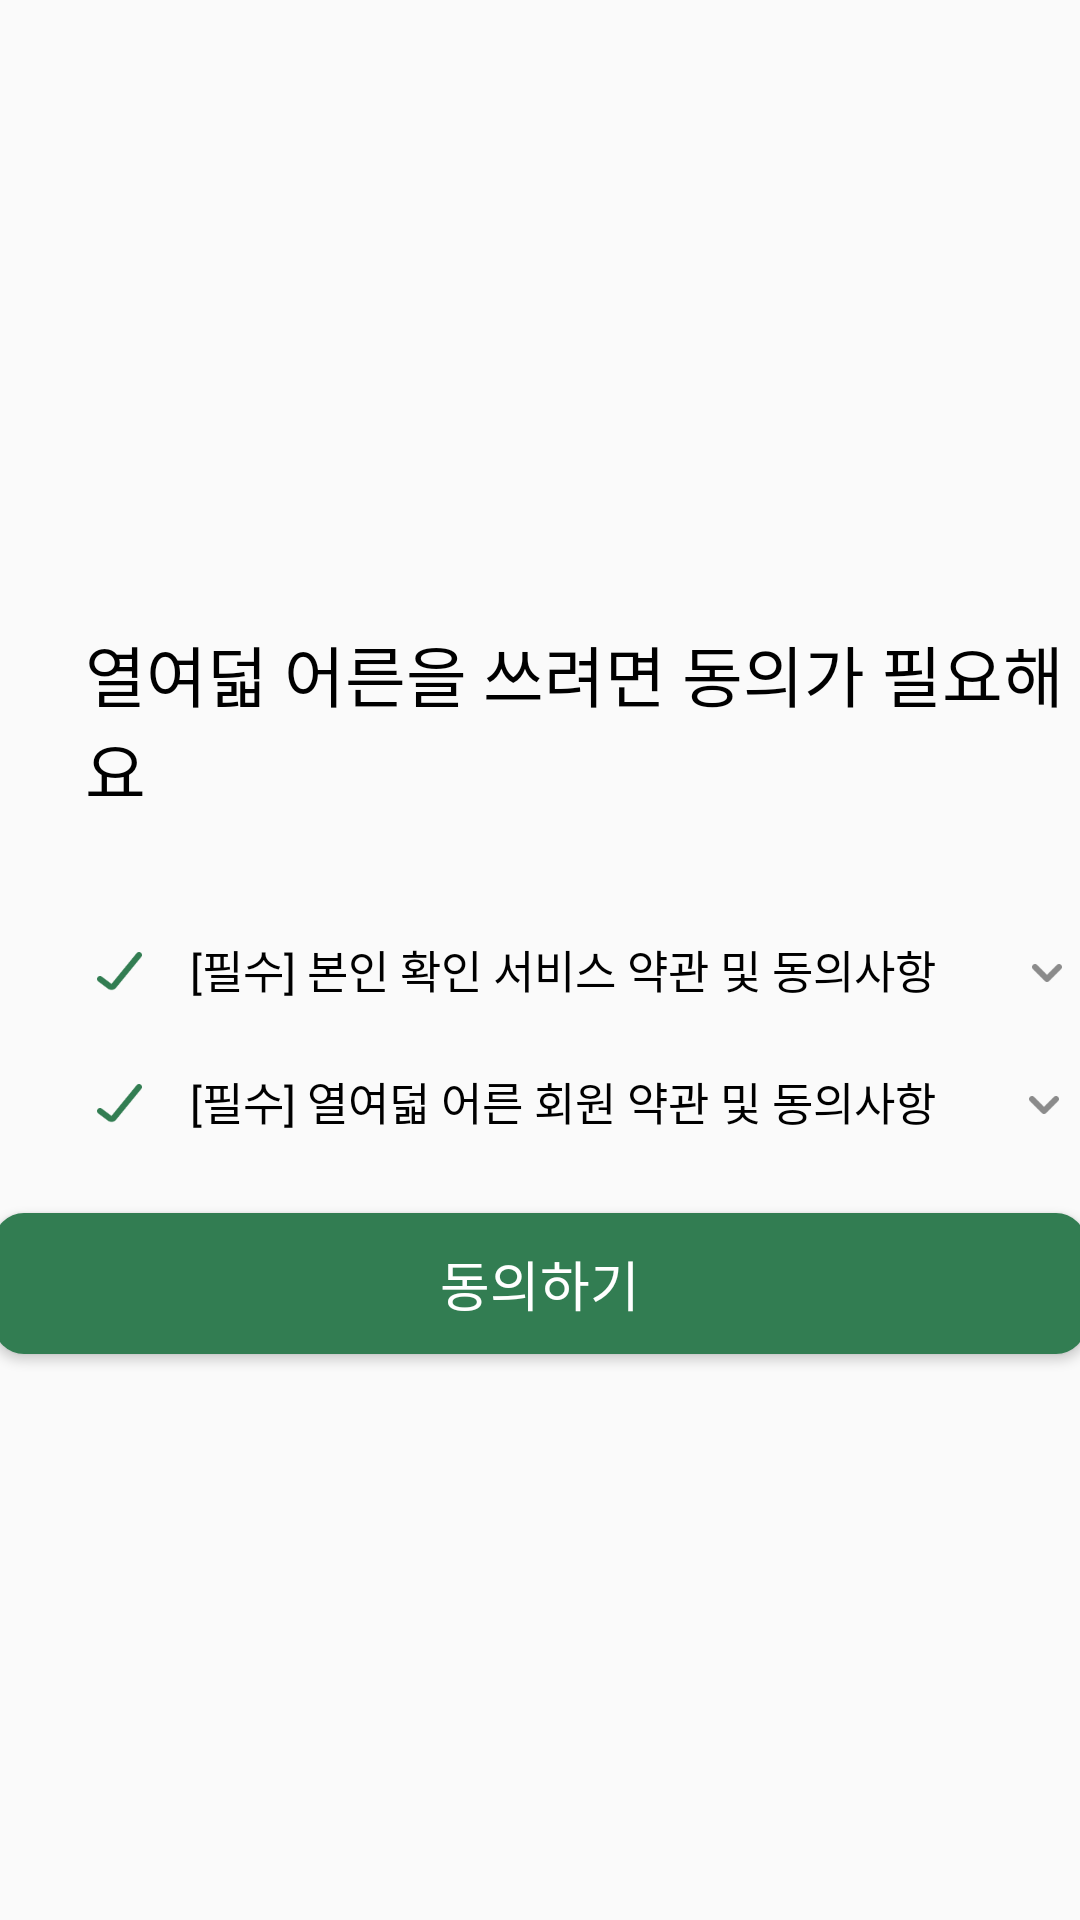

Screen size 1080w x 1920h. Icon name, then its center in pixels as [x,y]:
login check on: [119,971], [119,1103]
login see more: [1047,973], [1044,1105]
